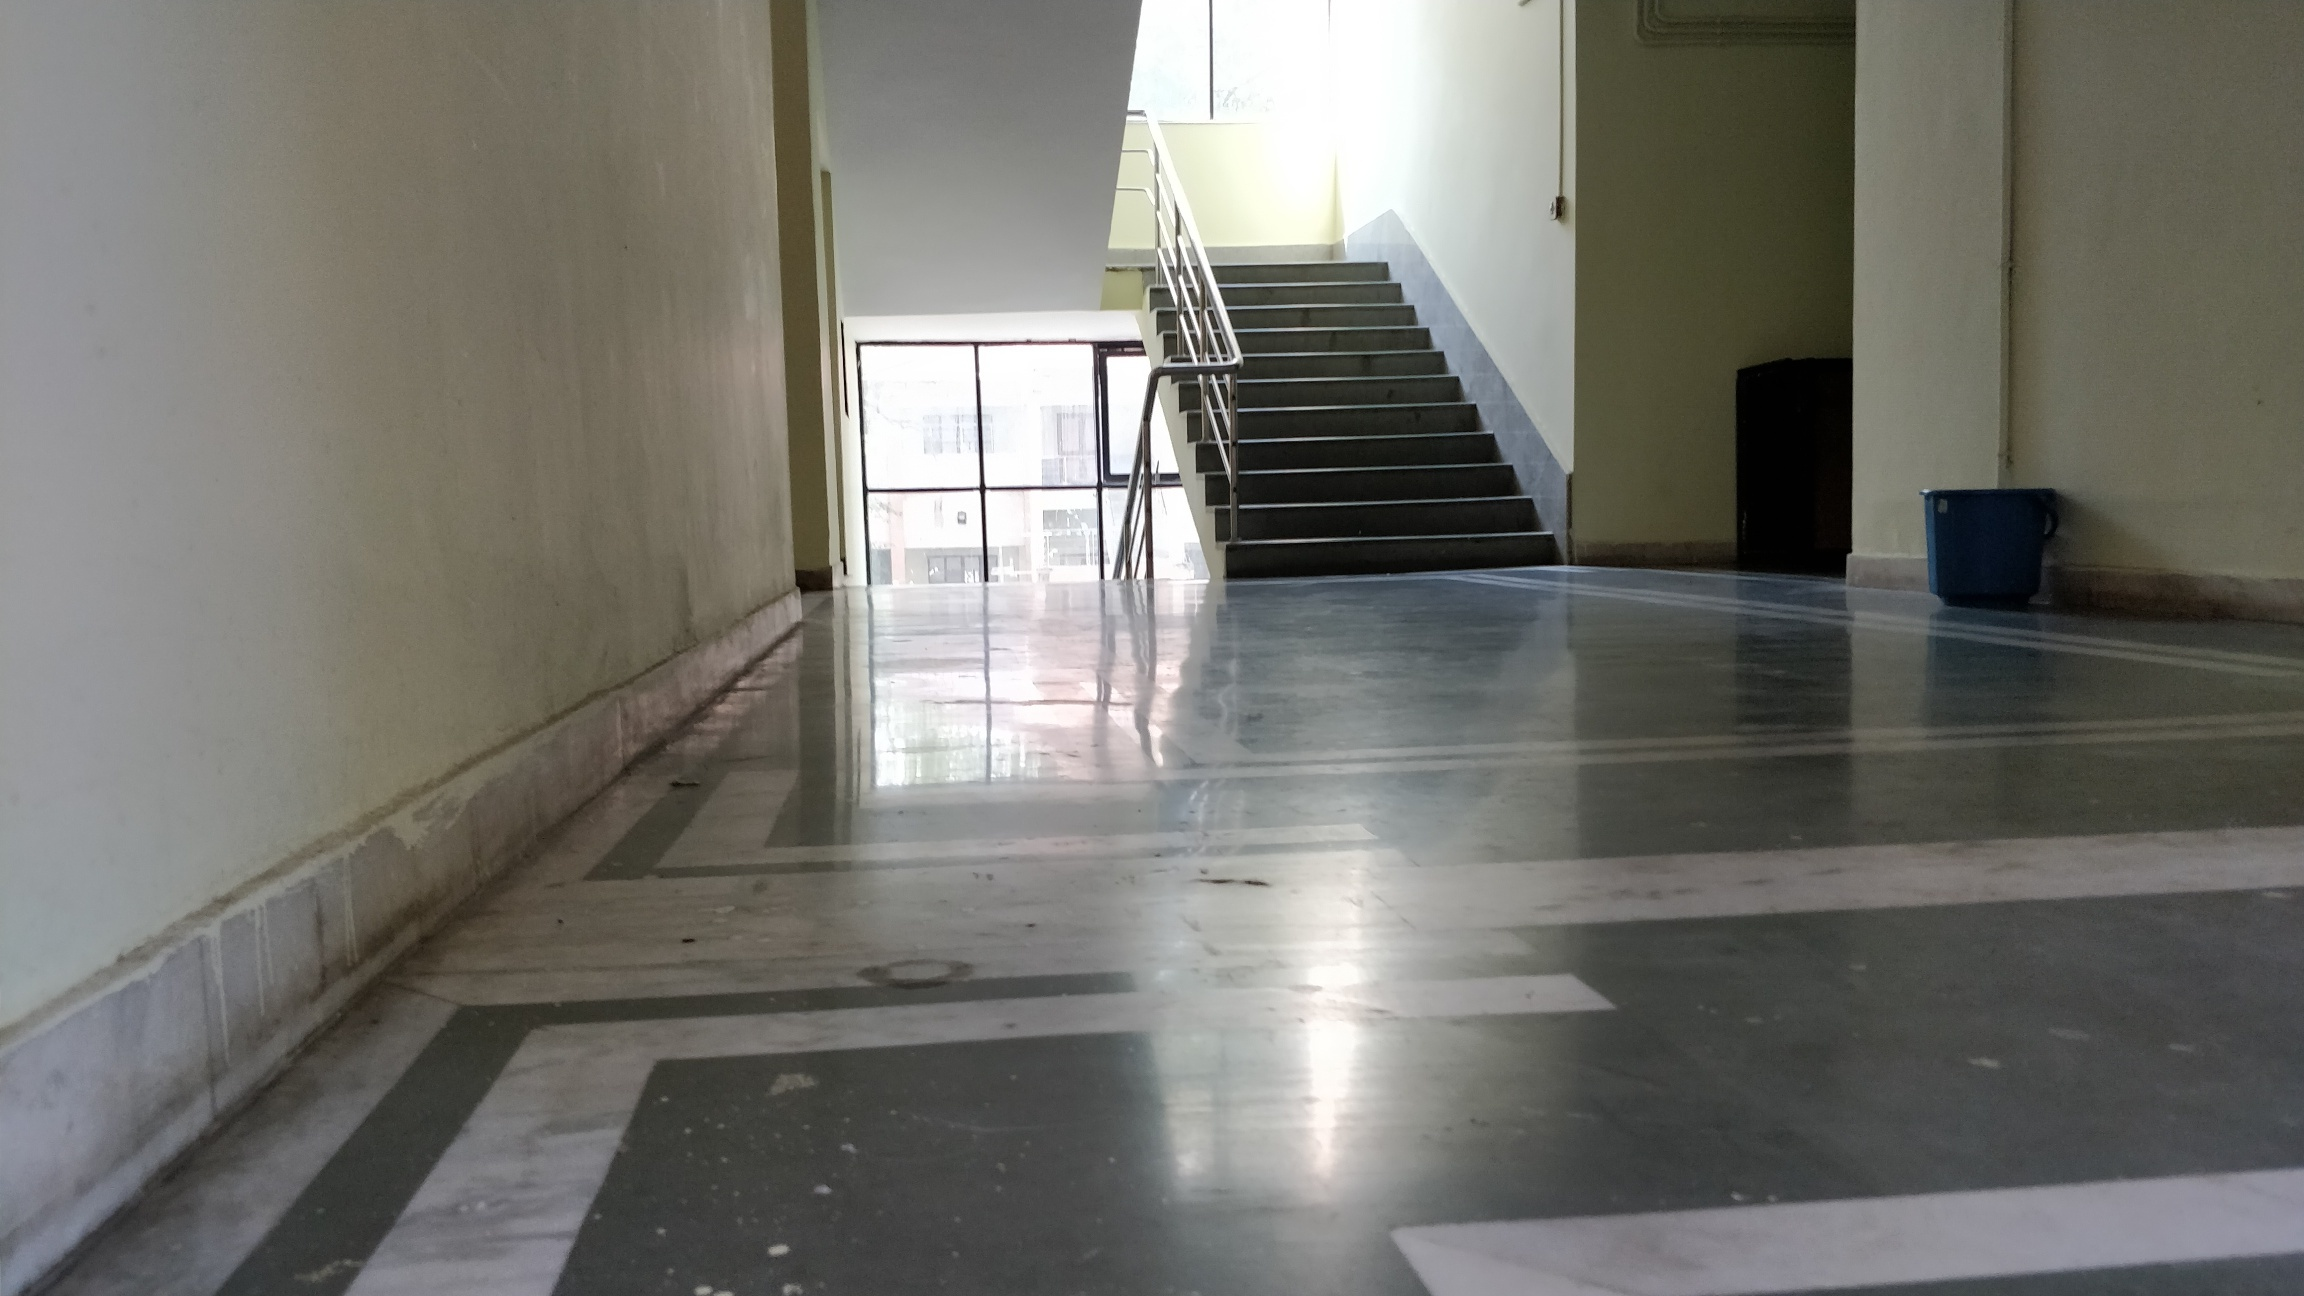stairs_up: (1149, 255, 1554, 581)
